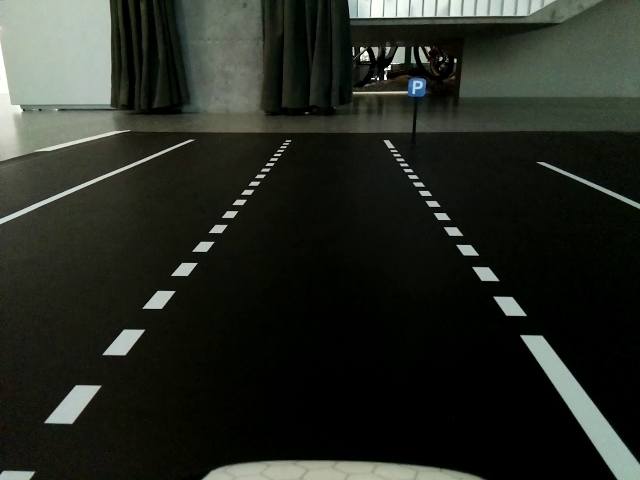park: (409, 78, 427, 96)
